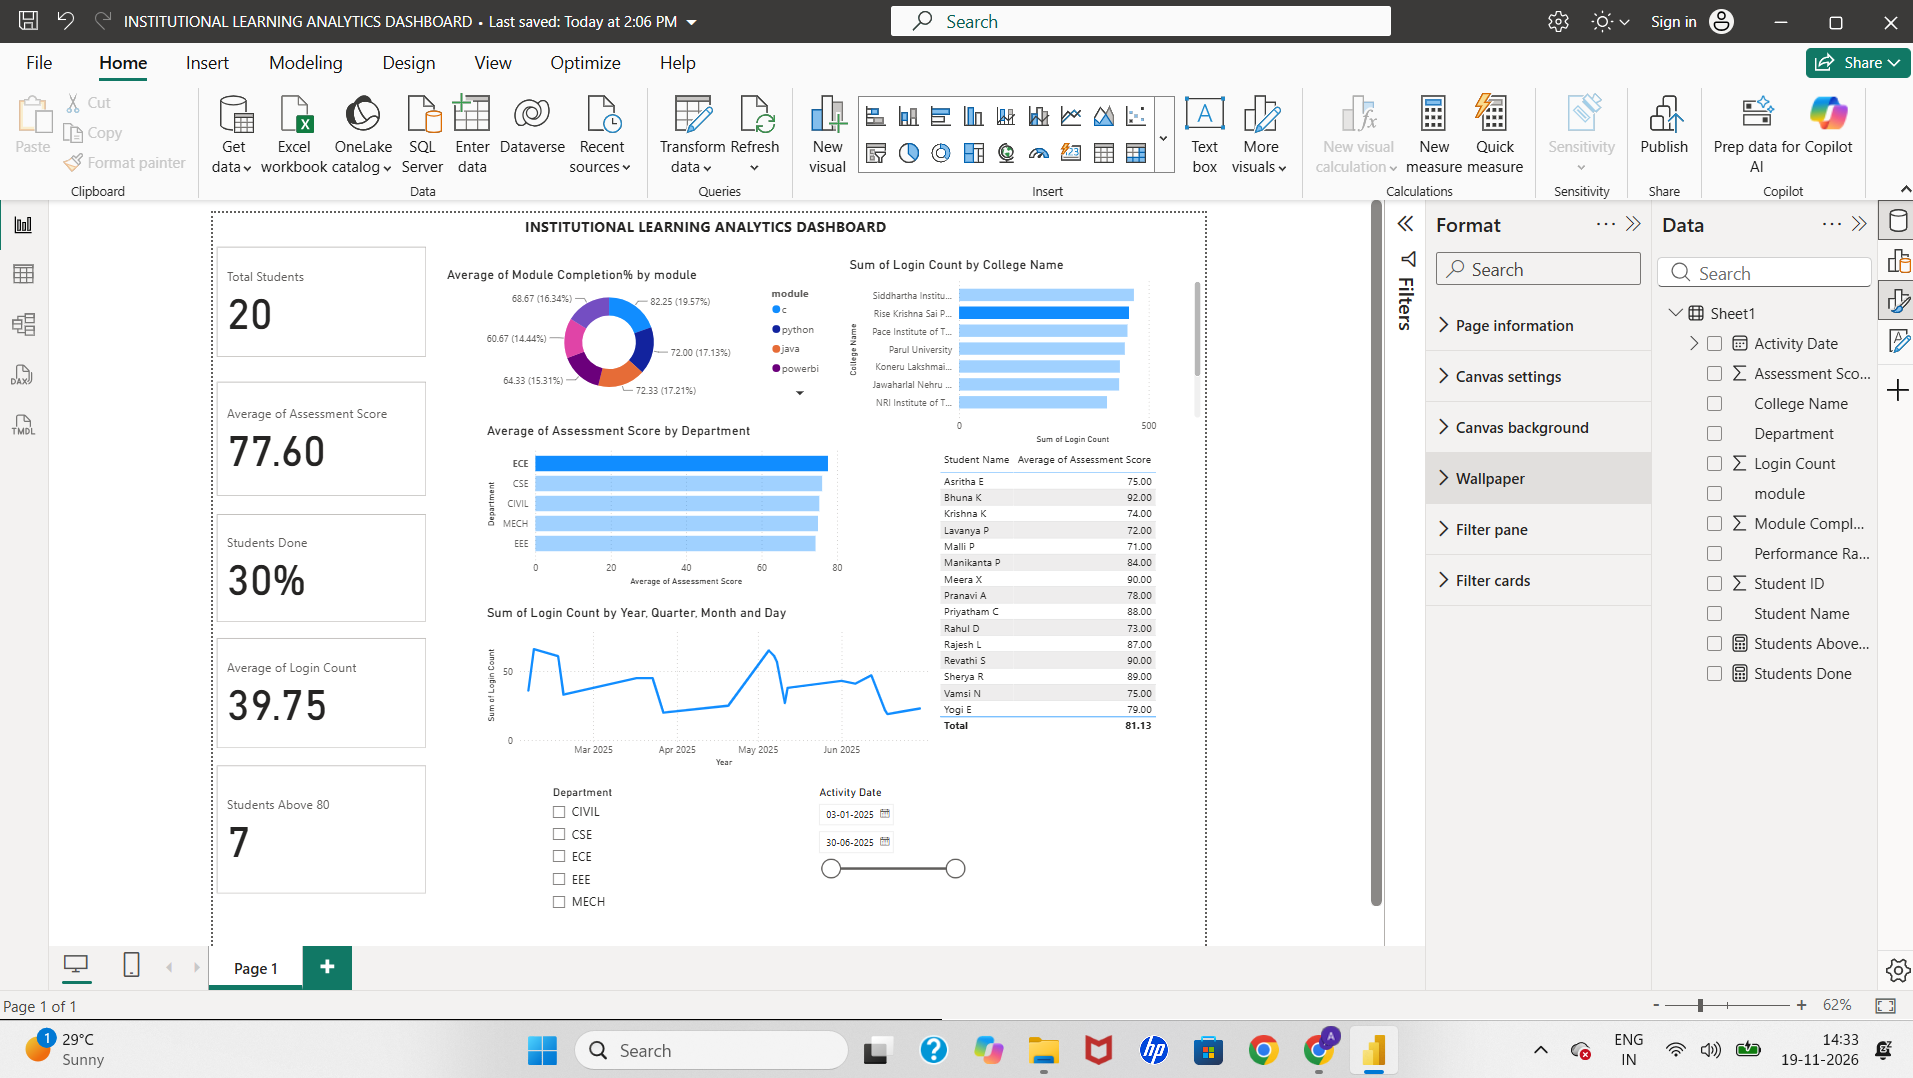

Layout of this report page (visuals, bound fields, positions):
{"tool":"powerbi","page":{"name":"Page 1","canvas":[1500,1300],"ordinal":0},"visuals":[{"type":"cardVisual","title":"TOTAL STUDENTS","fields":{"Data":["CountNonNull(Sheet1.Student ID)"]},"box":[0,38,280.3,152.1],"z":0},{"type":"cardVisual","fields":{"Data":["Avg(Sheet1.Assessment Score)"]},"box":[0,212.7,280.3,157.7],"z":1000},{"type":"cardVisual","fields":{"Data":["Sheet1.Students Done"]},"box":[0,384.5,280.3,149.3],"z":2000},{"type":"cardVisual","fields":{"Data":["Avg(Sheet1.Login Count)"]},"box":[0,543.7,280.3,152.1],"z":3000},{"type":"clusteredBarChart","fields":{"Category":["Sheet1.Department"],"Y":["Avg(Sheet1.Assessment Score)"]},"box":[347.9,270.4,469,215.5],"z":4000},{"type":"clusteredBarChart","fields":{"Category":["Sheet1.College Name"],"Y":["Sum(Sheet1.Login Count)"]},"box":[816.9,56.3,463.4,246.5],"z":5000},{"type":"donutChart","fields":{"Category":["Sheet1.module"],"Y":["Avg(Sheet1.Module Completion%)"]},"box":[297.2,69,500,176.1],"z":6000},{"type":"lineChart","fields":{"Category":["Sheet1.Activity Date.Variation.Date Hierarchy.Year","Sheet1.Activity Date.Variation.Date Hierarchy.Quarter","Sheet1.Activity Date.Variation.Date Hierarchy.Month","Sheet1.Activity Date.Variation.Date Hierarchy.Day"],"Y":["Sum(Sheet1.Login Count)"]},"box":[347.9,504.2,593,215.5],"z":7000},{"type":"tableEx","fields":{"Values":["Sheet1.Student Name","Avg(Sheet1.Assessment Score)"]},"box":[932.2,301.1,347.8,418.9],"z":8000},{"type":"textbox","box":[347.9,0,574.6,38],"z":9000},{"type":"slicer","fields":{"Values":["Sheet1.Department"]},"box":[425.6,733.3,210,246.7],"z":10000},{"type":"slicer","fields":{"Values":["Sheet1.Activity Date"]},"box":[770,733.3,210,417.8],"z":11000},{"type":"cardVisual","fields":{"Data":["Sheet1.Students Above 80"]},"box":[0,708.3,280,175],"z":12000}]}

Visuals, with their boxes on the page's 1500x1300 design canvas (x1, y1, x2, y2). These are canvas units, not pixel positions in the 1913x1078 screenshot, which may show the page scaled, cropped or inside an application window:
"TOTAL STUDENTS" cardVisual: <bbox>0, 38, 280, 190</bbox>
cardVisual - Avg(Sheet1.Assessment Score): <bbox>0, 213, 280, 370</bbox>
cardVisual - Sheet1.Students Done: <bbox>0, 384, 280, 534</bbox>
cardVisual - Avg(Sheet1.Login Count): <bbox>0, 544, 280, 696</bbox>
clusteredBarChart - Sheet1.Department x Avg(Sheet1.Assessment Score): <bbox>348, 270, 817, 486</bbox>
clusteredBarChart - Sheet1.College Name x Sum(Sheet1.Login Count): <bbox>817, 56, 1280, 303</bbox>
donutChart - Sheet1.module x Avg(Sheet1.Module Completion%): <bbox>297, 69, 797, 245</bbox>
lineChart - Sheet1.Activity Date.Variation.Date Hierarchy.Year x Sheet1.Activity Date.Variation.Date Hierarchy.Quarter: <bbox>348, 504, 941, 720</bbox>
tableEx - Sheet1.Student Name x Avg(Sheet1.Assessment Score): <bbox>932, 301, 1280, 720</bbox>
textbox: <bbox>348, 0, 922, 38</bbox>
slicer - Sheet1.Department: <bbox>426, 733, 636, 980</bbox>
slicer - Sheet1.Activity Date: <bbox>770, 733, 980, 1151</bbox>
cardVisual - Sheet1.Students Above 80: <bbox>0, 708, 280, 883</bbox>
